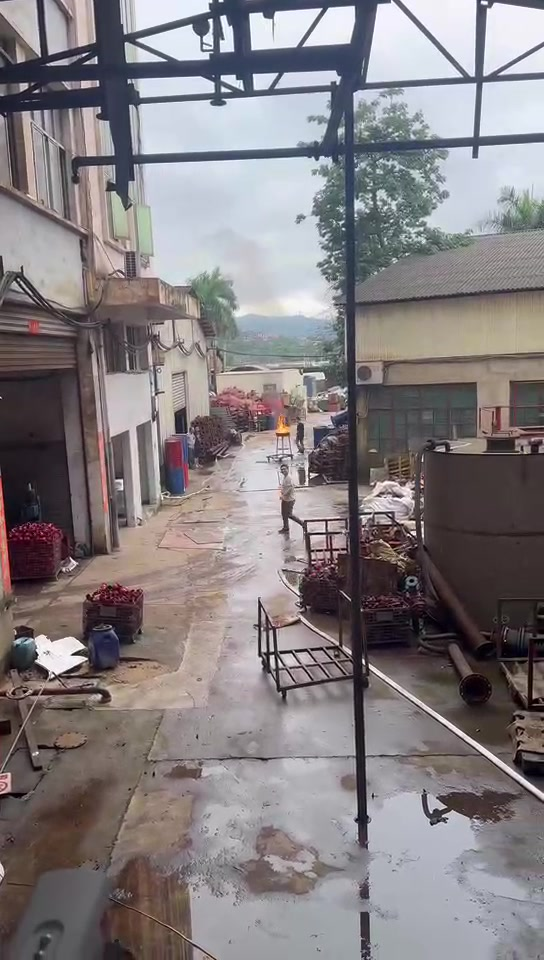fire: (275, 416, 289, 433)
